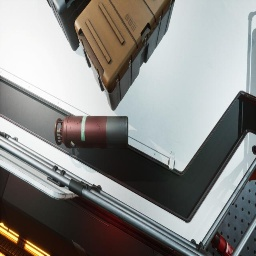FireExtinguisher ]: (211, 231, 240, 256)
NitrogenTank ,: (55, 115, 128, 149)
